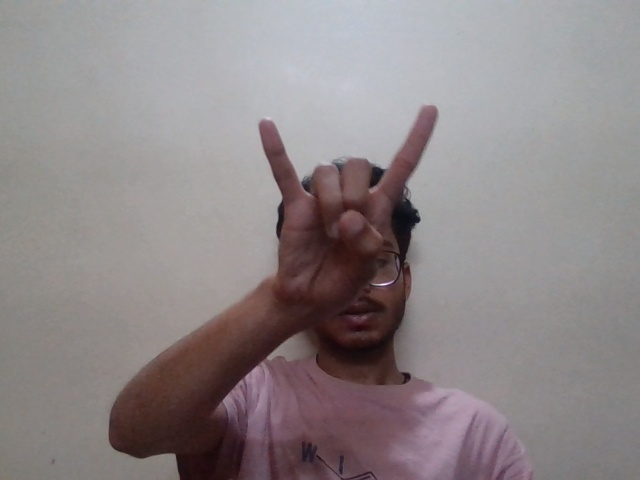i-love-you: (257, 106, 459, 325)
